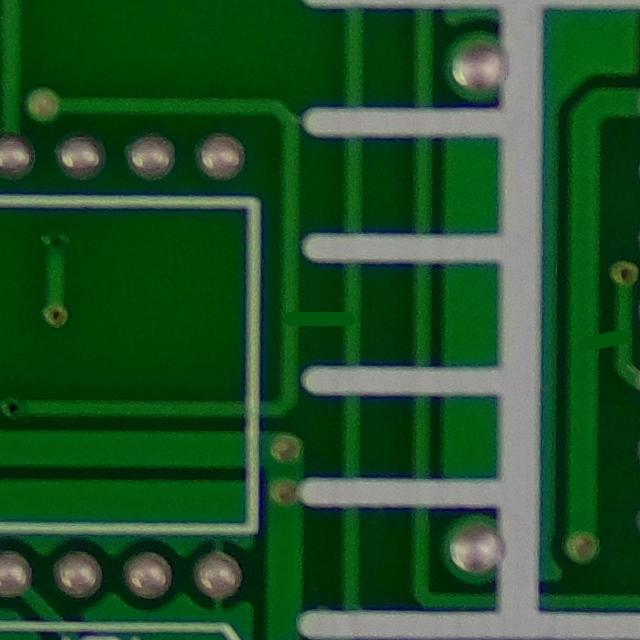short: (272, 291, 368, 350)
